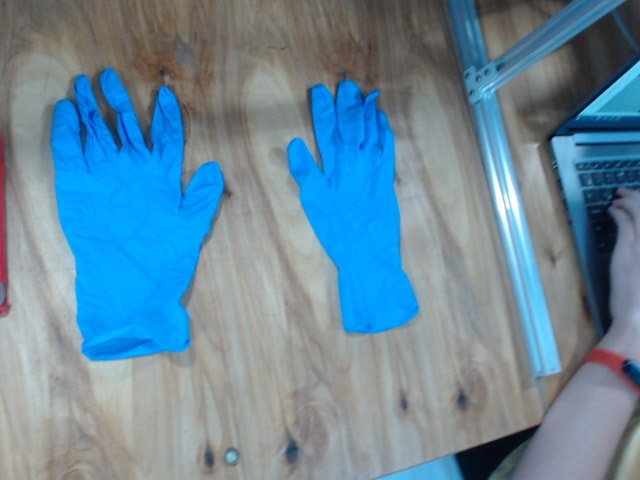medical_glove: (52, 67, 225, 362), (287, 79, 419, 334)
